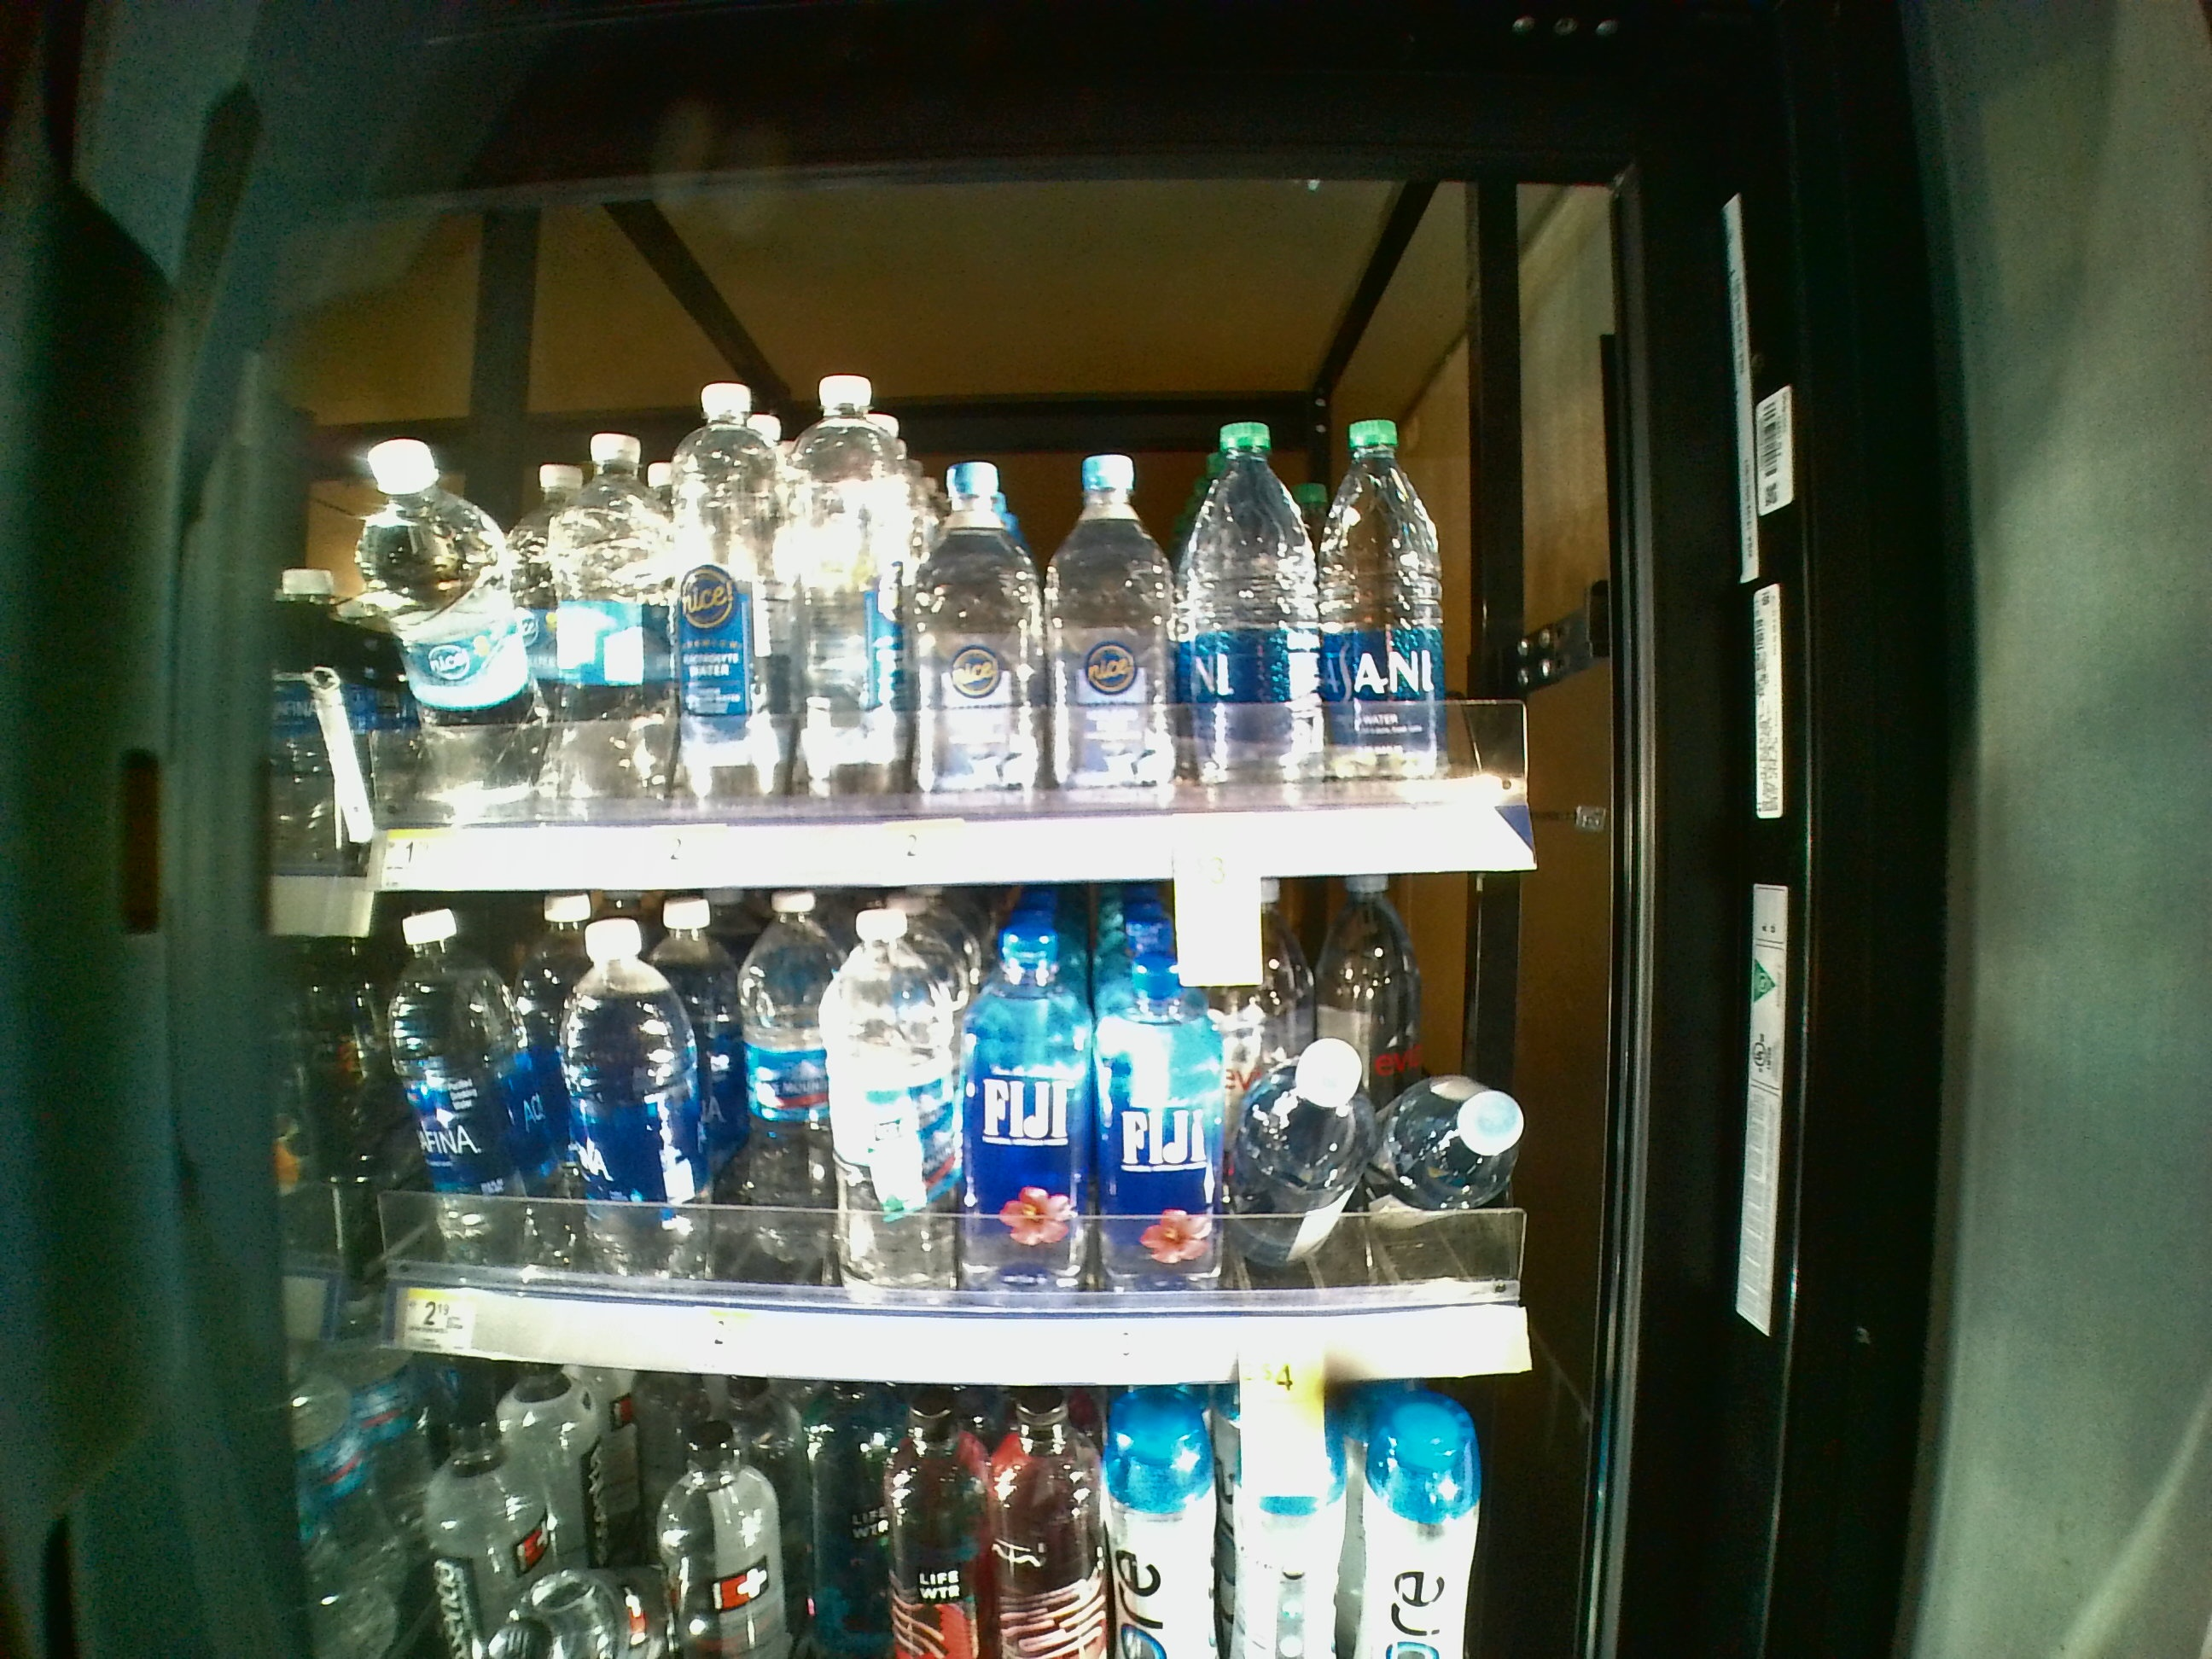shelf: (336, 209, 1629, 887), (340, 889, 1629, 1384)
